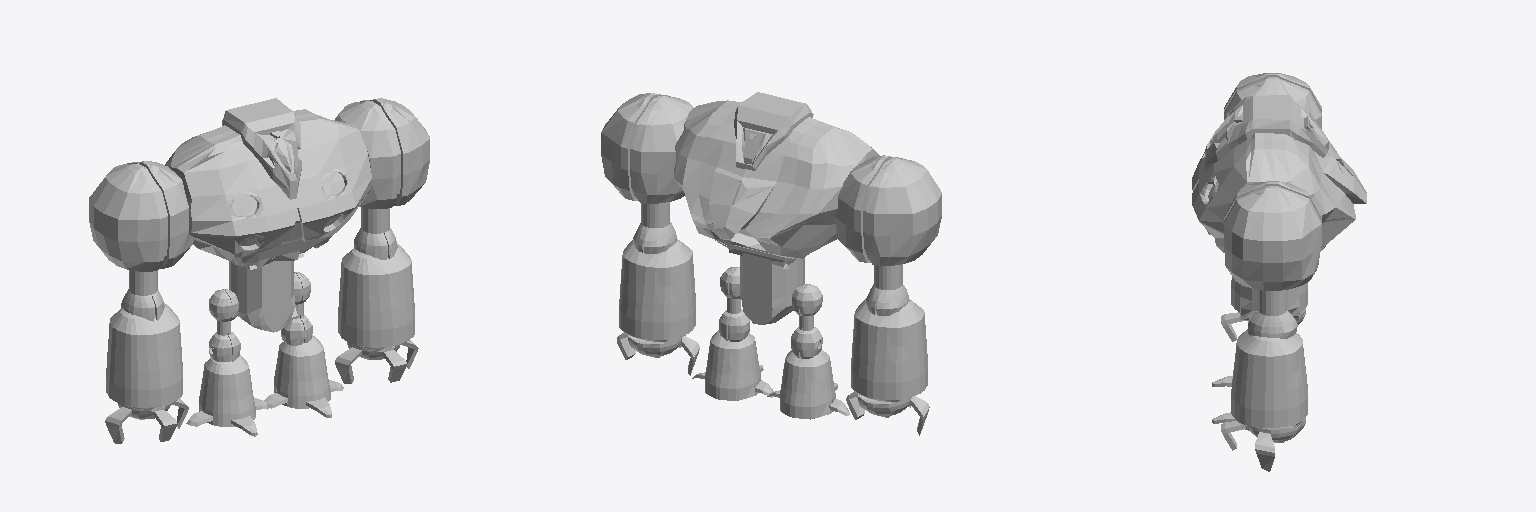
Rendered from RobotRough.obj.
The picture shows the model from 3 angles: view 1: azimuth 30°, elevation 25°; view 2: azimuth 150°, elevation 25°; view 3: azimuth 270°, elevation 25°; orthographic projection.
Parts seen in each view (by area): view 1: HeadChest Torso, RightShoulder RightArm, Left_Arm LeftForeArm, RightArm RightForeArm, LeftShoulder Left_Arm, Head1 HeadChest, RightLeg RightFoot, HeadChest Abdomen, LeftLeg LeftFoot, Left_Arm LeftArm, Left_Arm LeftHand, RightArm RightHand (+4 smaller); view 2: HeadChest Torso, RightShoulder RightArm, LeftShoulder Left_Arm, Left_Arm LeftForeArm, RightArm RightForeArm, Head1 HeadChest, HeadChest Abdomen, RightLeg RightFoot, LeftLeg LeftFoot, Left_Arm LeftArm, RightArm RightArm, Left_Arm LeftHand (+5 smaller); view 3: HeadChest Torso, LeftShoulder Left_Arm, Left_Arm LeftForeArm, Head1 HeadChest, RightShoulder RightArm, Left_Arm LeftArm, Left_Arm LeftHand, HeadChest Abdomen.
Part boxes in pixels (bbox=[...]): HeadChest Torso: bbox=[165, 109, 371, 269]; RightShoulder RightArm: bbox=[89, 161, 193, 271]; Left_Arm LeftForeArm: bbox=[338, 244, 414, 349]; RightArm RightForeArm: bbox=[106, 303, 182, 409]; LeftShoulder Left_Arm: bbox=[335, 98, 429, 208]; Head1 HeadChest: bbox=[222, 98, 301, 199]; RightLeg RightFoot: bbox=[186, 355, 268, 436]; HeadChest Abdomen: bbox=[229, 261, 297, 332]; LeftLeg LeftFoot: bbox=[264, 335, 343, 417]; Left_Arm LeftArm: bbox=[354, 207, 397, 259]; Left_Arm LeftHand: bbox=[335, 340, 418, 383]; RightArm RightHand: bbox=[105, 398, 188, 443]; HeadChest Torso: bbox=[674, 100, 879, 268]; RightShoulder RightArm: bbox=[834, 155, 941, 266]; LeftShoulder Left_Arm: bbox=[601, 93, 693, 203]; Left_Arm LeftForeArm: bbox=[619, 239, 695, 341]; RightArm RightForeArm: bbox=[851, 299, 927, 401]; Head1 HeadChest: bbox=[734, 92, 813, 170]; HeadChest Abdomen: bbox=[740, 244, 804, 324]; RightLeg RightFoot: bbox=[767, 350, 849, 419]; LeftLeg LeftFoot: bbox=[692, 330, 773, 400]; Left_Arm LeftArm: bbox=[633, 202, 676, 253]; RightArm RightArm: bbox=[866, 264, 909, 315]; Left_Arm LeftHand: bbox=[617, 333, 699, 375]; HeadChest Torso: bbox=[1192, 96, 1366, 252]; LeftShoulder Left_Arm: bbox=[1224, 181, 1321, 290]; Left_Arm LeftForeArm: bbox=[1231, 329, 1307, 427]; Head1 HeadChest: bbox=[1205, 95, 1328, 171]; RightShoulder RightArm: bbox=[1224, 73, 1321, 129]; Left_Arm LeftArm: bbox=[1248, 290, 1297, 338]; Left_Arm LeftHand: bbox=[1221, 418, 1305, 471]; HeadChest Abdomen: bbox=[1240, 284, 1298, 321].
Size of the model in its own units: 4.48 by 3.94 by 2.11.